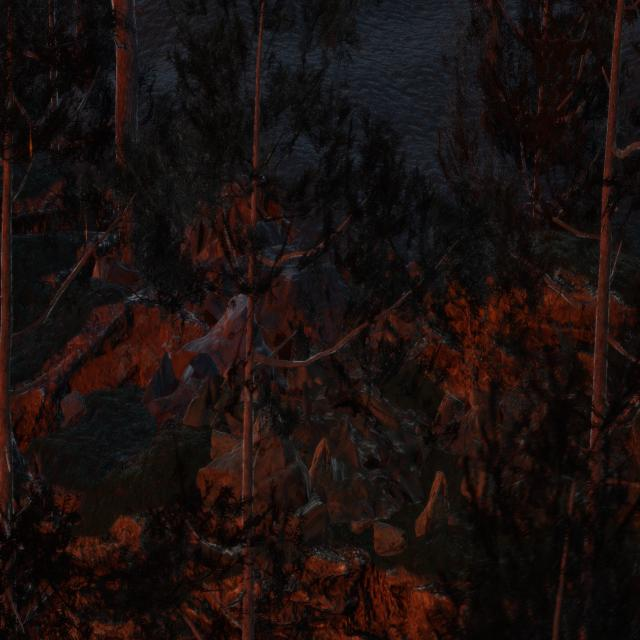Human: (296, 374, 313, 423)
